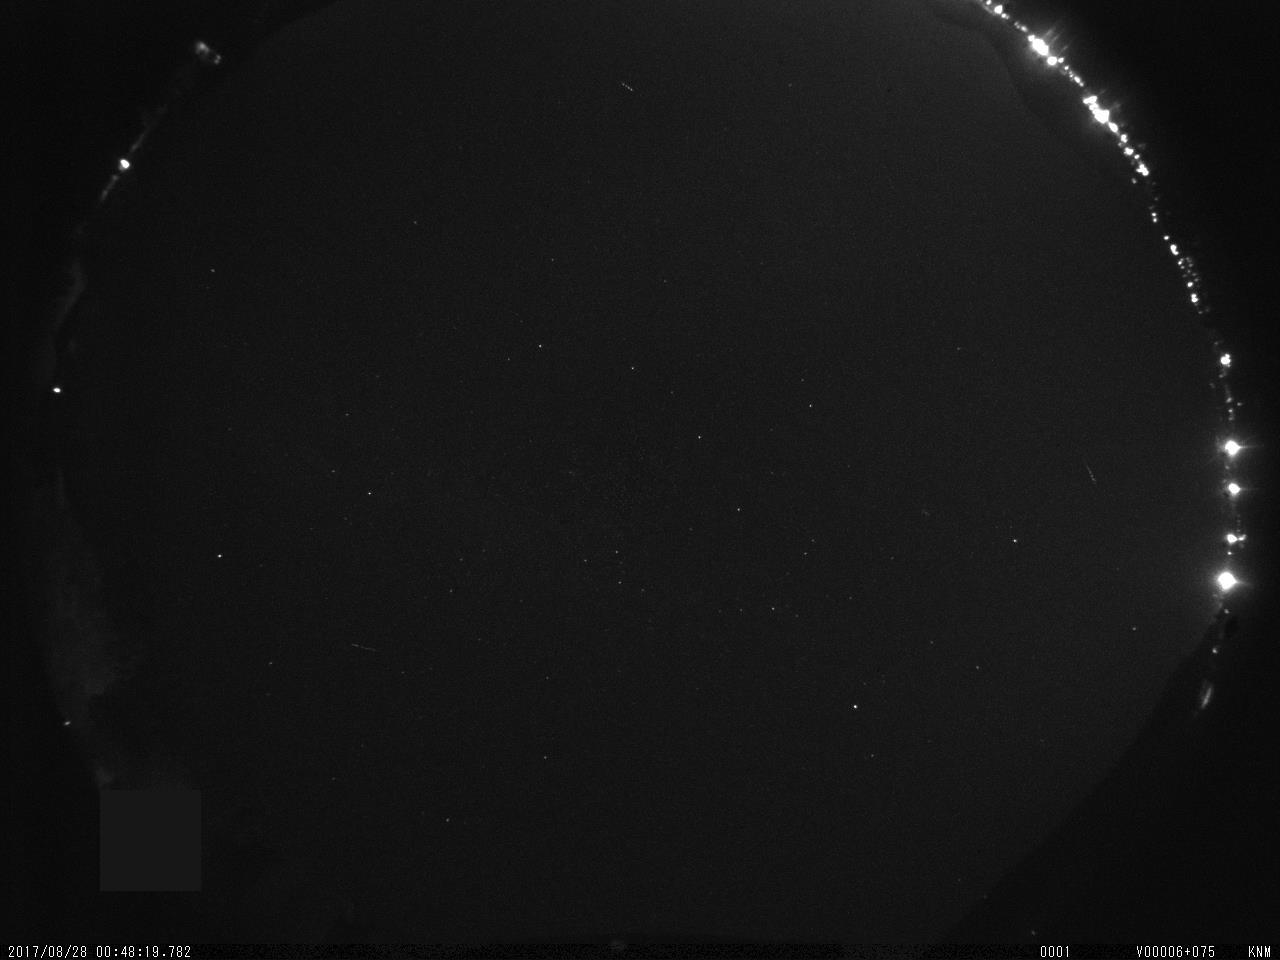meteor: (343, 637, 389, 665), (1073, 458, 1103, 491)
